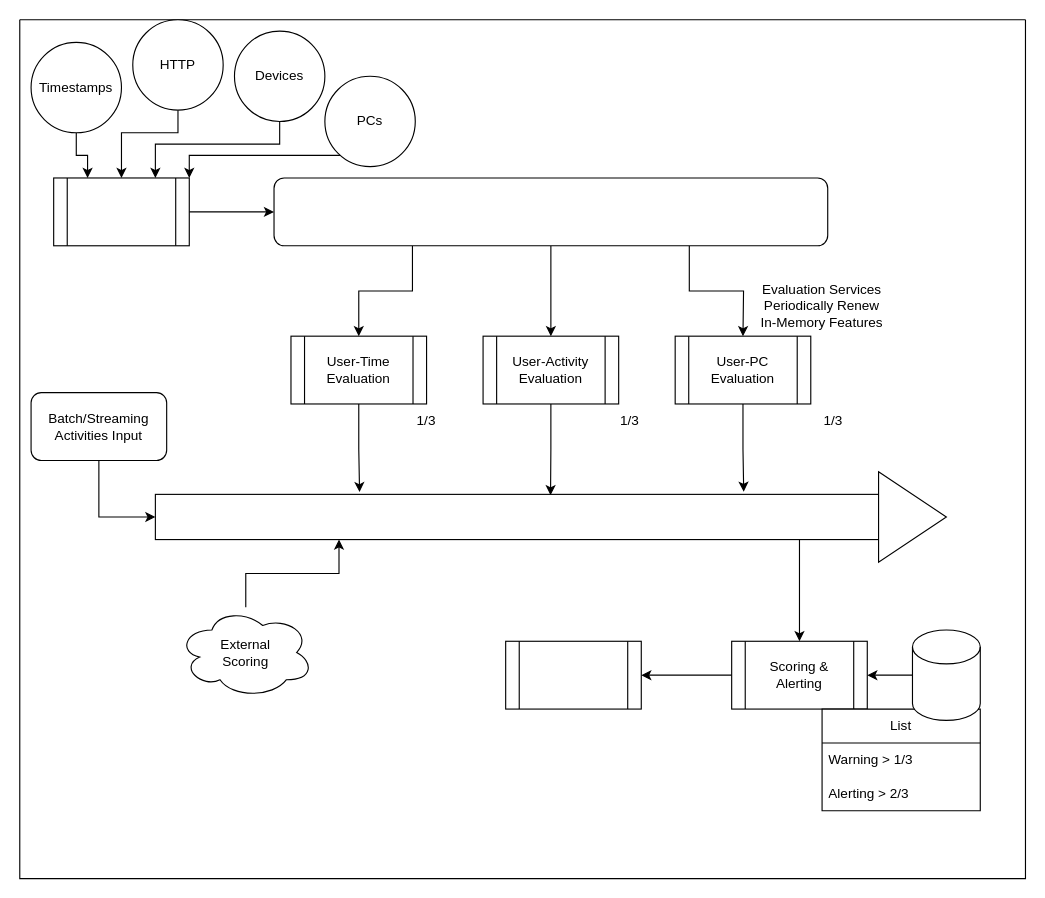
This 1045x898 diagram has some shape labels left out. The centre of each missing label's shape, as x and y in pixels:
(Re-)Calculate Features: [121,211]
Bytewax Dataflow: [522,516]
Dashboard: [573,674]
Flagged Activities: [945,674]
Redis Online Store: [550,211]
